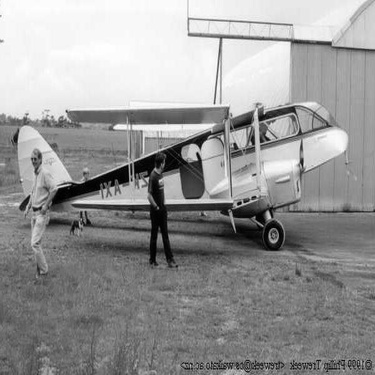airplane: (10, 83, 356, 272)
